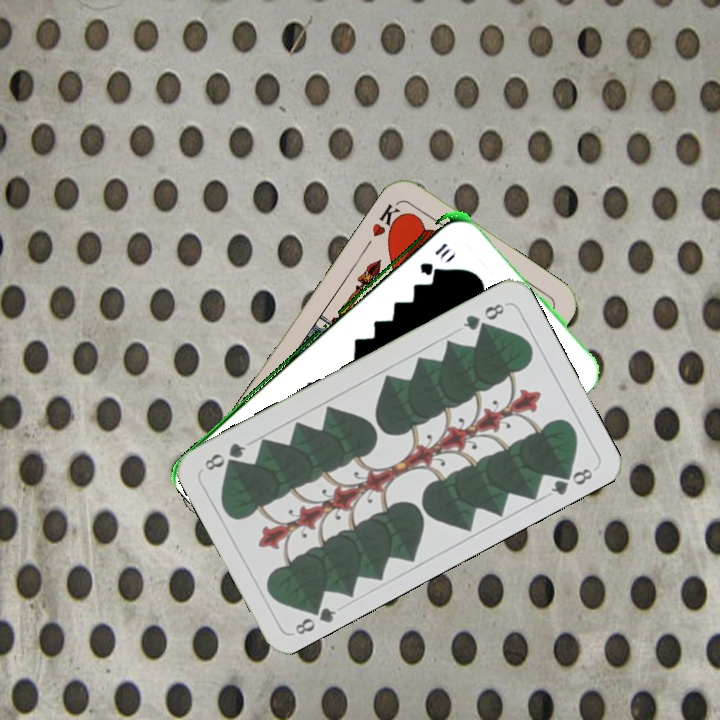G10: (416, 238, 453, 277)
G8: (291, 598, 339, 638), (458, 299, 507, 333)
HK: (367, 199, 408, 242)
